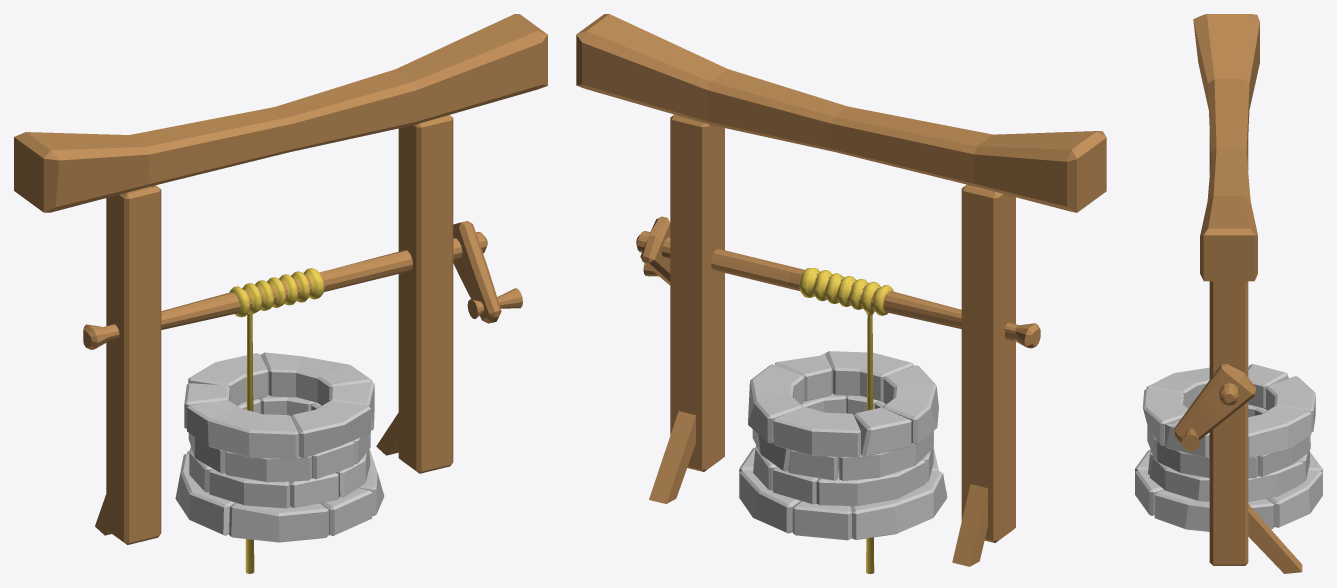
The model's file is Well.fbx.
The picture shows the model from 3 angles, left to right: view 1: azimuth 30°, elevation 25°; view 2: azimuth 150°, elevation 25°; view 3: azimuth 270°, elevation 25°; orthographic projection. The views are drawn at different scales.
Parts seen in each view (by area): view 1: WellConstruction, Stones; view 2: WellConstruction, Stones; view 3: WellConstruction, Stones.
Part boxes in pixels (box(x1,y1,x2,y2)): WellConstruction: box(14, 14, 547, 573); Stones: box(175, 352, 384, 542); WellConstruction: box(576, 14, 1106, 573); Stones: box(739, 351, 947, 540); WellConstruction: box(1174, 14, 1302, 573); Stones: box(1135, 364, 1322, 531).
Bounding box in the file's own units: 323 × 297 × 116.
